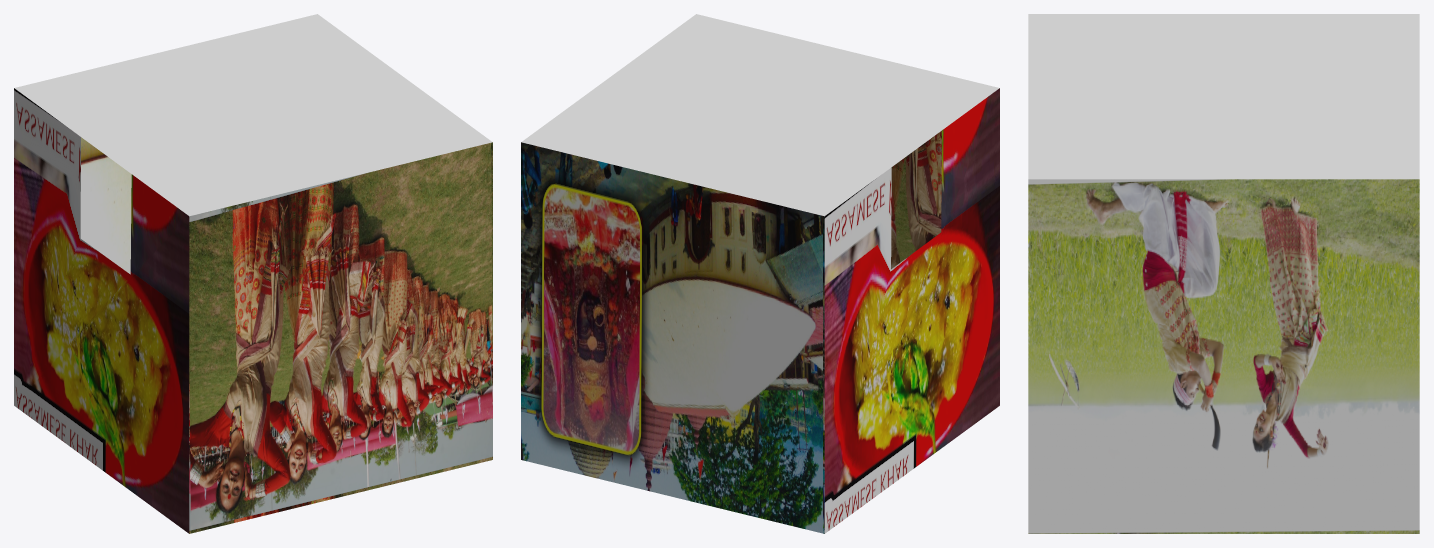
The model's file is Assam.glb.
3 renders of one model, left to right at view 1: azimuth 30°, elevation 25°; view 2: azimuth 150°, elevation 25°; view 3: azimuth 270°, elevation 25°, orthographic. The views are drawn at different scales.
Parts seen in each view (by area): view 1: Cube.003, Cube, Cube.005, Cube.002; view 2: Cube.002, Cube, Cube.005, Cube.003; view 3: Cube.004, Cube.
Boxes of the visible parts, left/top/right/bottom form: Cube.003: left=189, top=142, right=492, bottom=533; Cube: left=14, top=14, right=492, bottom=216; Cube.005: left=14, top=88, right=189, bottom=533; Cube.002: left=80, top=137, right=131, bottom=274; Cube.002: left=521, top=142, right=824, bottom=533; Cube: left=521, top=14, right=999, bottom=216; Cube.005: left=824, top=88, right=999, bottom=533; Cube.003: left=891, top=130, right=941, bottom=269; Cube.004: left=1028, top=179, right=1419, bottom=533; Cube: left=1028, top=14, right=1419, bottom=179.
Size of the model in its own units: 94.76 by 94.76 by 94.76.
5 materials, 4 textured.
